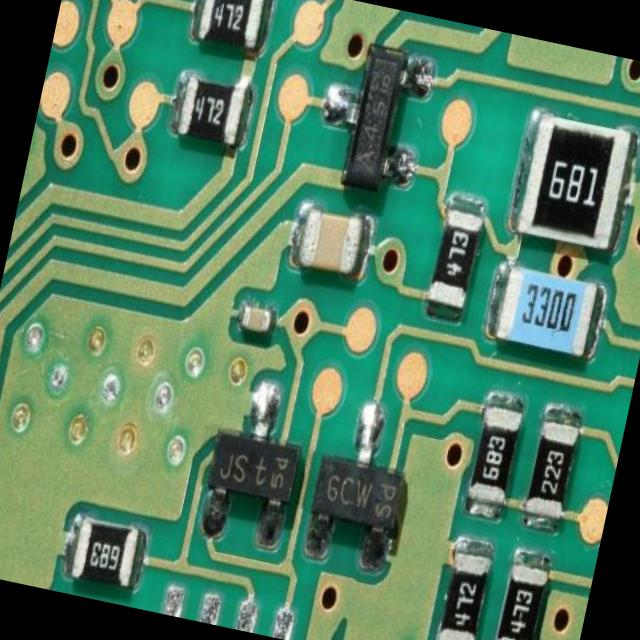capacitor: (290, 202, 370, 286), (236, 300, 276, 346)
resistor: (516, 107, 636, 261), (491, 260, 611, 377), (420, 204, 484, 328), (64, 508, 145, 598), (520, 416, 580, 523), (468, 402, 525, 514), (175, 68, 252, 148), (487, 551, 550, 640), (431, 545, 490, 640), (194, 0, 267, 55)
transistor: (300, 404, 414, 563), (192, 392, 308, 534), (328, 33, 419, 198)
